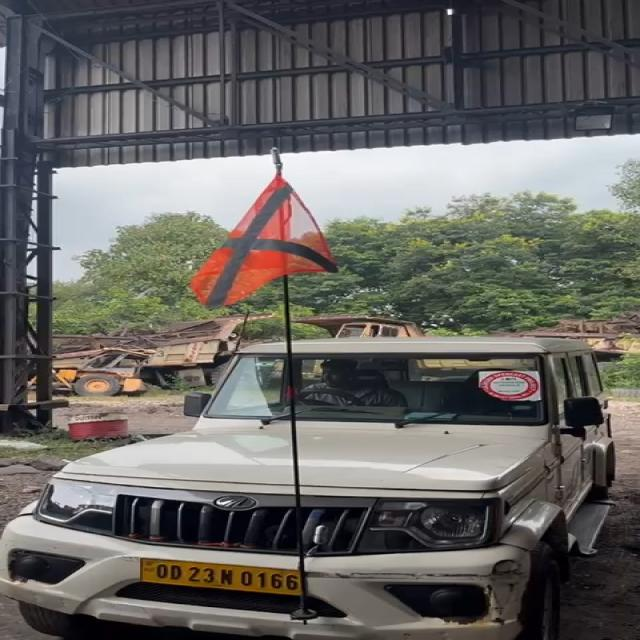light_vehicle: (1, 336, 626, 640)
